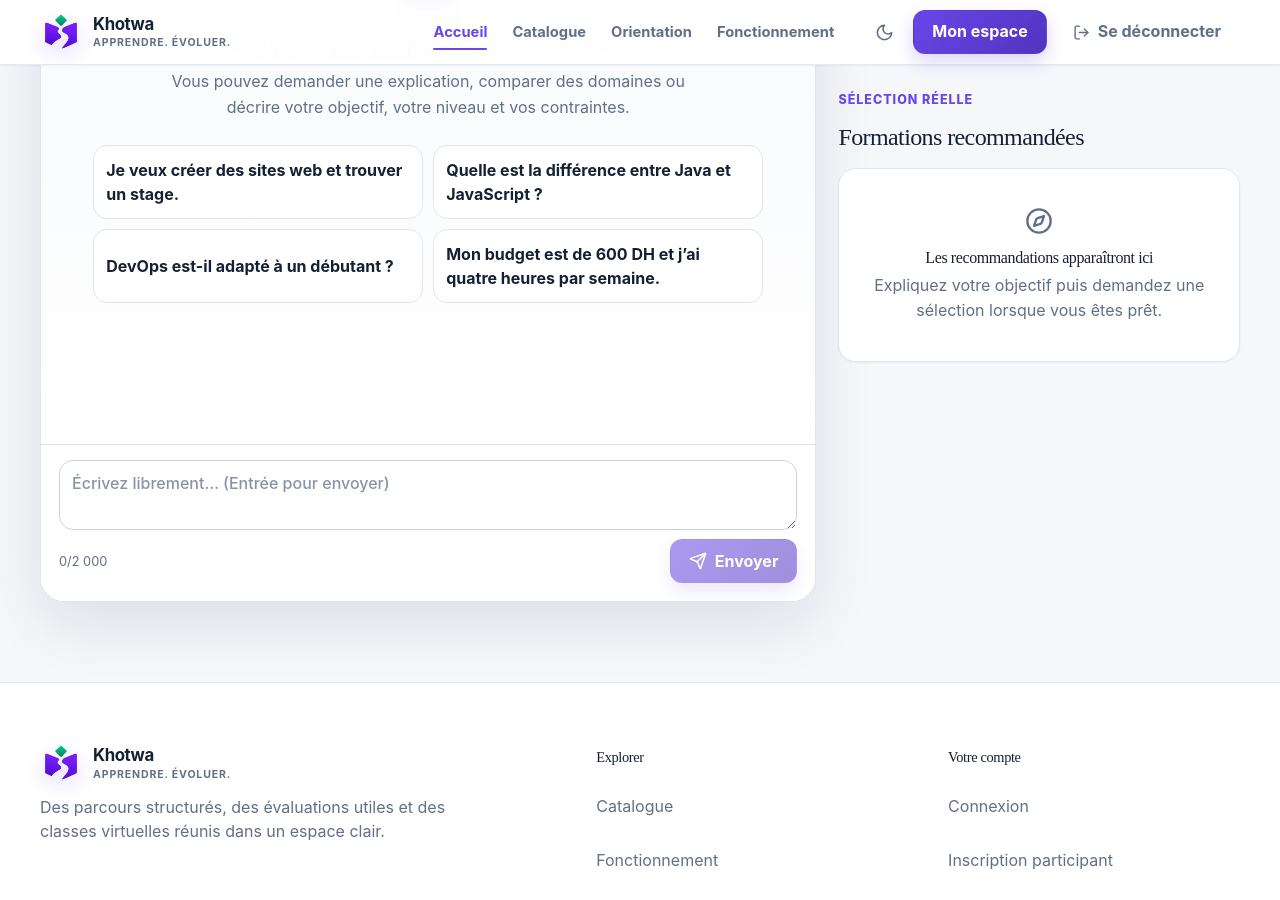
Test: Sprint 5 — engagement, personnalisation et acquisition › mène une orientation publique conversationnelle avec une recommandation réelle
(page scrolled)
Type "Je veux découvrir les métiers de la donnée" into the text box named "Votre message" at (428, 495), box top-left (59, 460), bottom-right (797, 530)
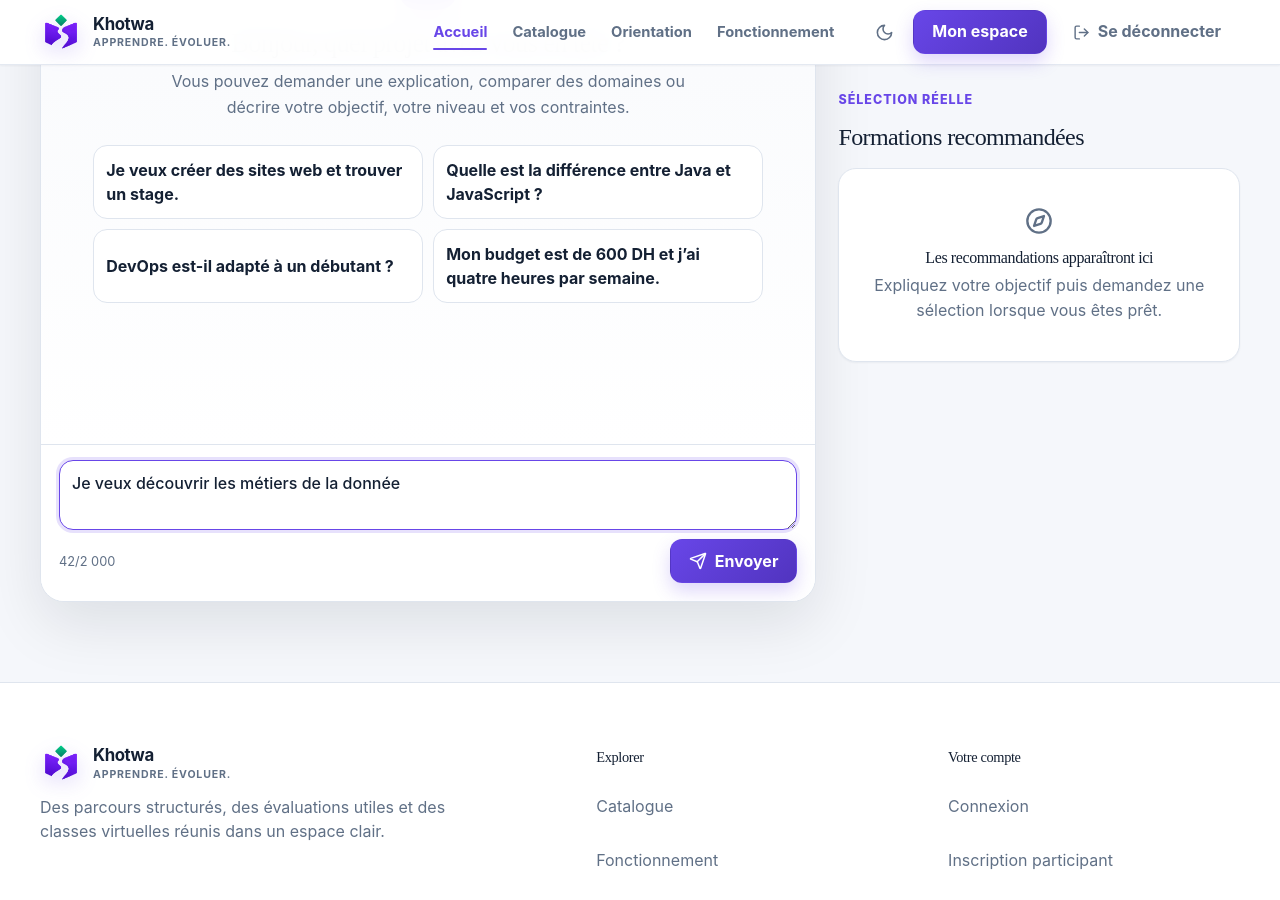
Click the button "Envoyer" at (734, 561), box top-left (670, 539), bottom-right (797, 583)
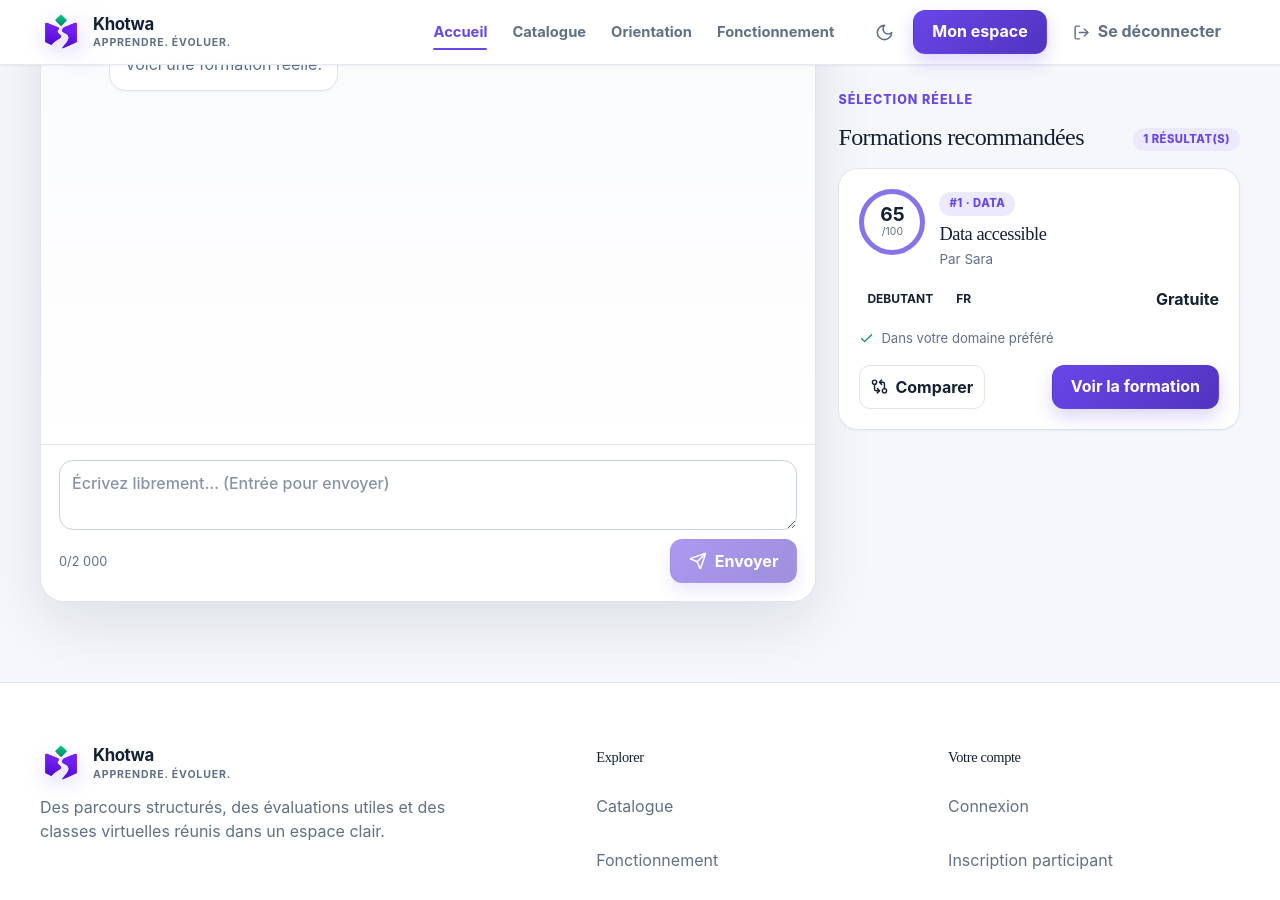
Expected: the heading "Data accessible" is shown, top-left (939, 224), bottom-right (1046, 244)
Expected: the list item "Dans votre domaine préféré" is shown, top-left (859, 329), bottom-right (1054, 345)
